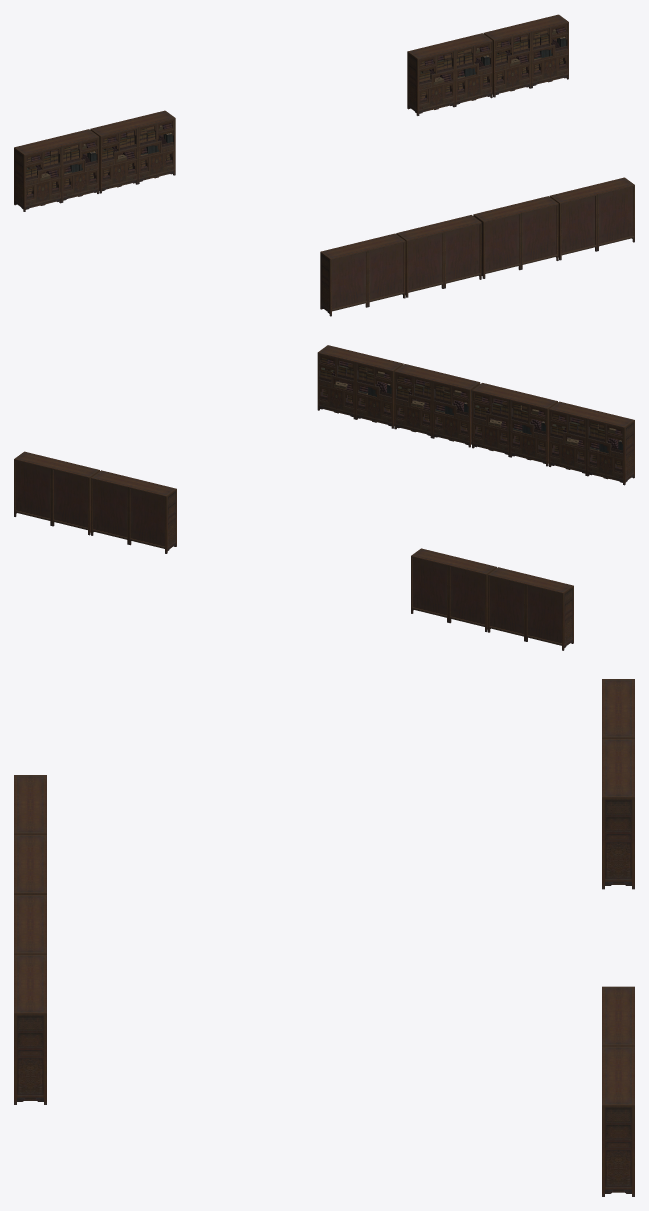
Rendered from Bookshelves.fbx.
3 renders of one model, top to bottom at view 1: azimuth 30°, elevation 25°; view 2: azimuth 150°, elevation 25°; view 3: azimuth 270°, elevation 25°, orthographic. The views are drawn at different scales.
Parts seen in each view (by area): view 1: shu_gui_01, shu_gui_04, shu_gui_05, shu_gui_03, shu_gui_02, shu_gui_07, shu_gui_06, shu_gui_08; view 2: shu_gui_05, shu_gui_04, shu_gui_01, shu_gui_07, shu_gui_08, shu_gui_06, shu_gui_02, shu_gui_03; view 3: shu_gui_03, shu_gui_08, shu_gui_02, shu_gui_01, shu_gui_06, shu_gui_07, shu_gui_04, shu_gui_05.
Part boxes in pixels (x1,y1,x2,y2): shu_gui_01: (407, 33, 492, 115); shu_gui_04: (14, 129, 99, 211); shu_gui_05: (320, 233, 405, 316); shu_gui_03: (90, 110, 175, 193); shu_gui_02: (483, 14, 568, 97); shu_gui_07: (473, 196, 558, 278); shu_gui_06: (396, 215, 481, 297); shu_gui_08: (549, 177, 634, 260); shu_gui_05: (549, 401, 634, 485); shu_gui_04: (487, 567, 573, 650); shu_gui_01: (91, 470, 176, 553); shu_gui_07: (394, 364, 480, 447); shu_gui_08: (317, 345, 403, 428); shu_gui_06: (472, 383, 557, 466); shu_gui_02: (14, 451, 99, 535); shu_gui_03: (411, 548, 496, 631); shu_gui_03: (602, 738, 634, 889); shu_gui_08: (14, 954, 46, 1104); shu_gui_02: (602, 1046, 634, 1196); shu_gui_01: (602, 986, 634, 1046); shu_gui_06: (14, 834, 46, 894); shu_gui_07: (14, 895, 46, 954); shu_gui_04: (602, 679, 634, 738); shu_gui_05: (14, 775, 46, 834).
Bounding box in the file's own units: 684 × 68.69 × 421.
1 material, 1 textured.
